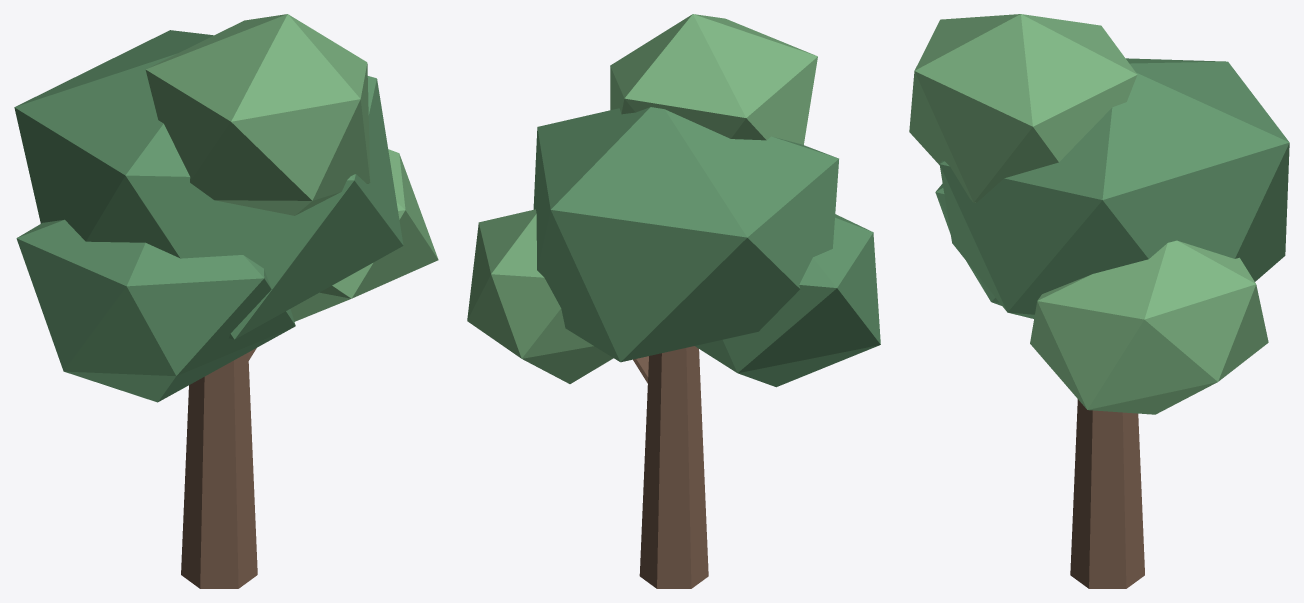
File: tree-round.glb
The picture shows the model from 3 angles, left to right: view 1: azimuth 30°, elevation 25°; view 2: azimuth 150°, elevation 25°; view 3: azimuth 270°, elevation 25°; orthographic projection. The views are drawn at different scales.
Parts seen in each view (by area): view 1: Tree_Round; view 2: Tree_Round; view 3: Tree_Round.
Boxes of the visible parts, x1,y1,x2,y2 form: Tree_Round: [14, 14, 438, 588]; Tree_Round: [467, 14, 880, 588]; Tree_Round: [909, 14, 1289, 588].
Size of the model in its own units: 2.05 by 2.87 by 1.73.
